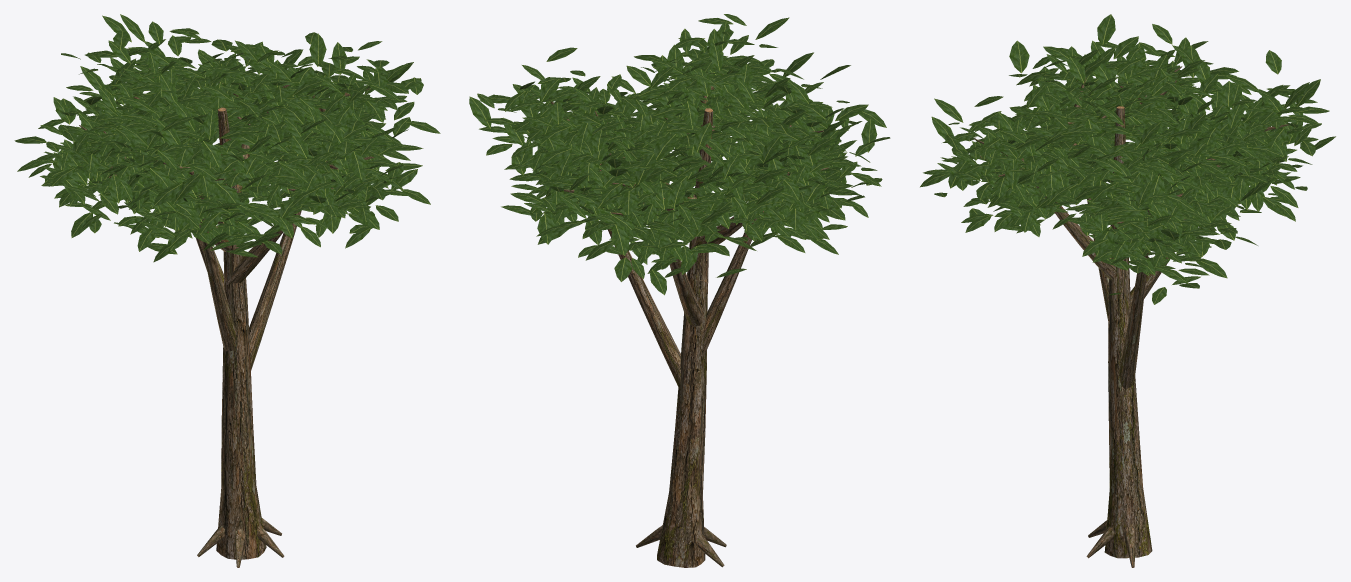
The model's file is leaning-1.obj.
The picture shows the model from 3 angles, left to right: view 1: azimuth 30°, elevation 25°; view 2: azimuth 150°, elevation 25°; view 3: azimuth 270°, elevation 25°; orthographic projection. The views are drawn at different scales.
Size of the model in its own units: 7.43 by 8.78 by 7.12.
Materials: 1 (1 with a texture image).
